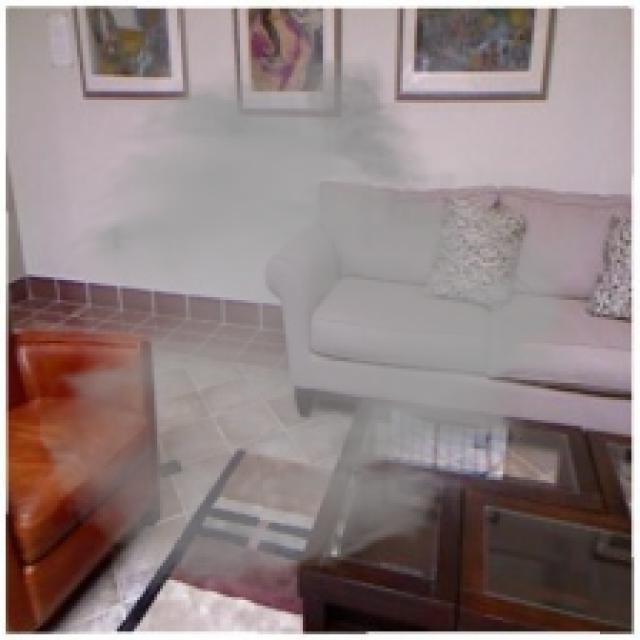smoke: (34, 49, 603, 597)
